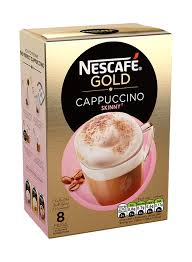nescafe-cappe-med: (21, 27, 169, 234)
